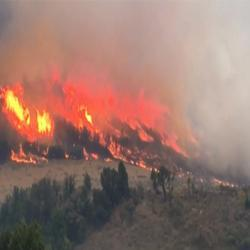fire: (1, 88, 54, 132), (76, 101, 101, 127)
smoke: (77, 11, 207, 73)
